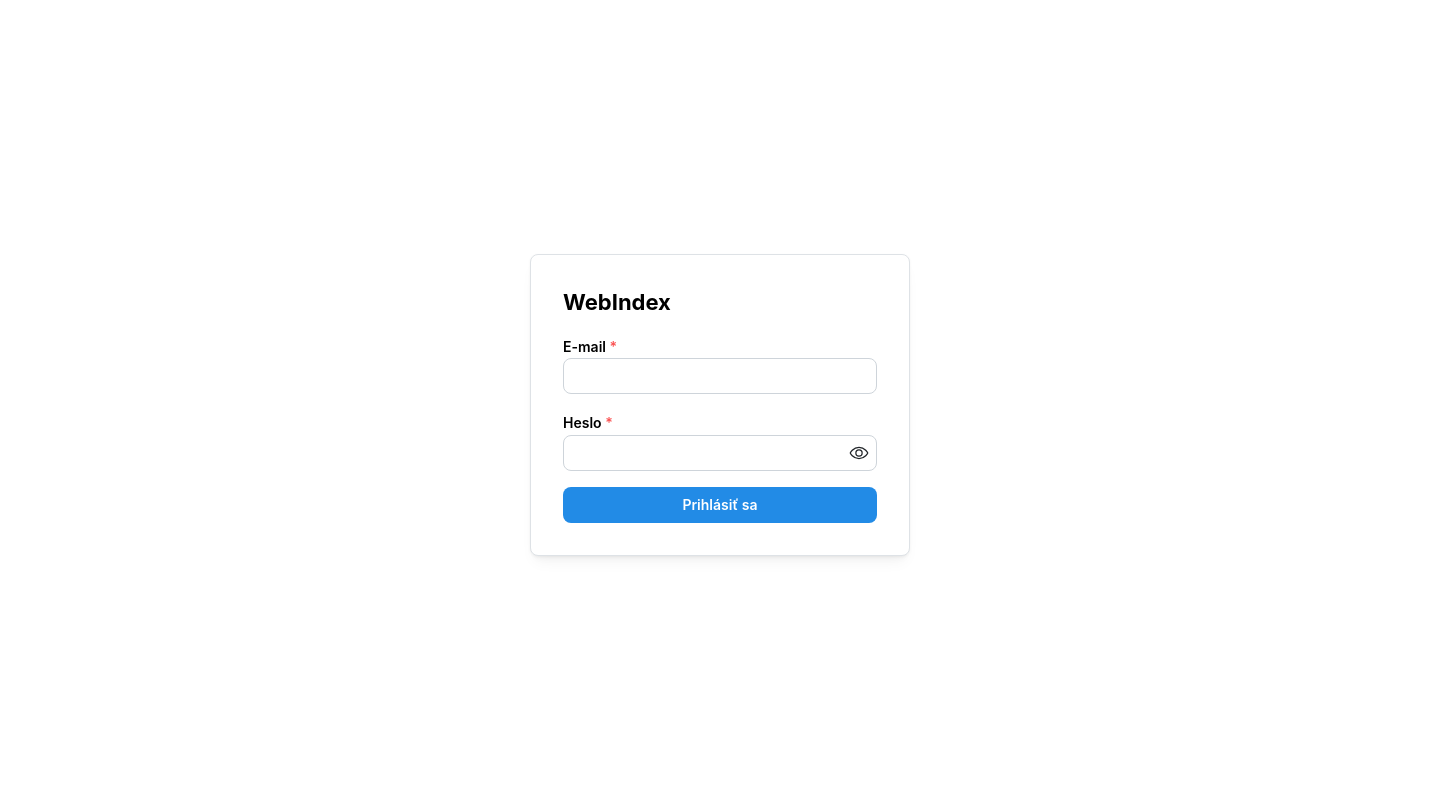
Scenario: deep links › keeps the query string of the requested page through the login
Type "admin@example.com" into the field labelled "E-mail *" at (720, 376), box [563,358,877,394]
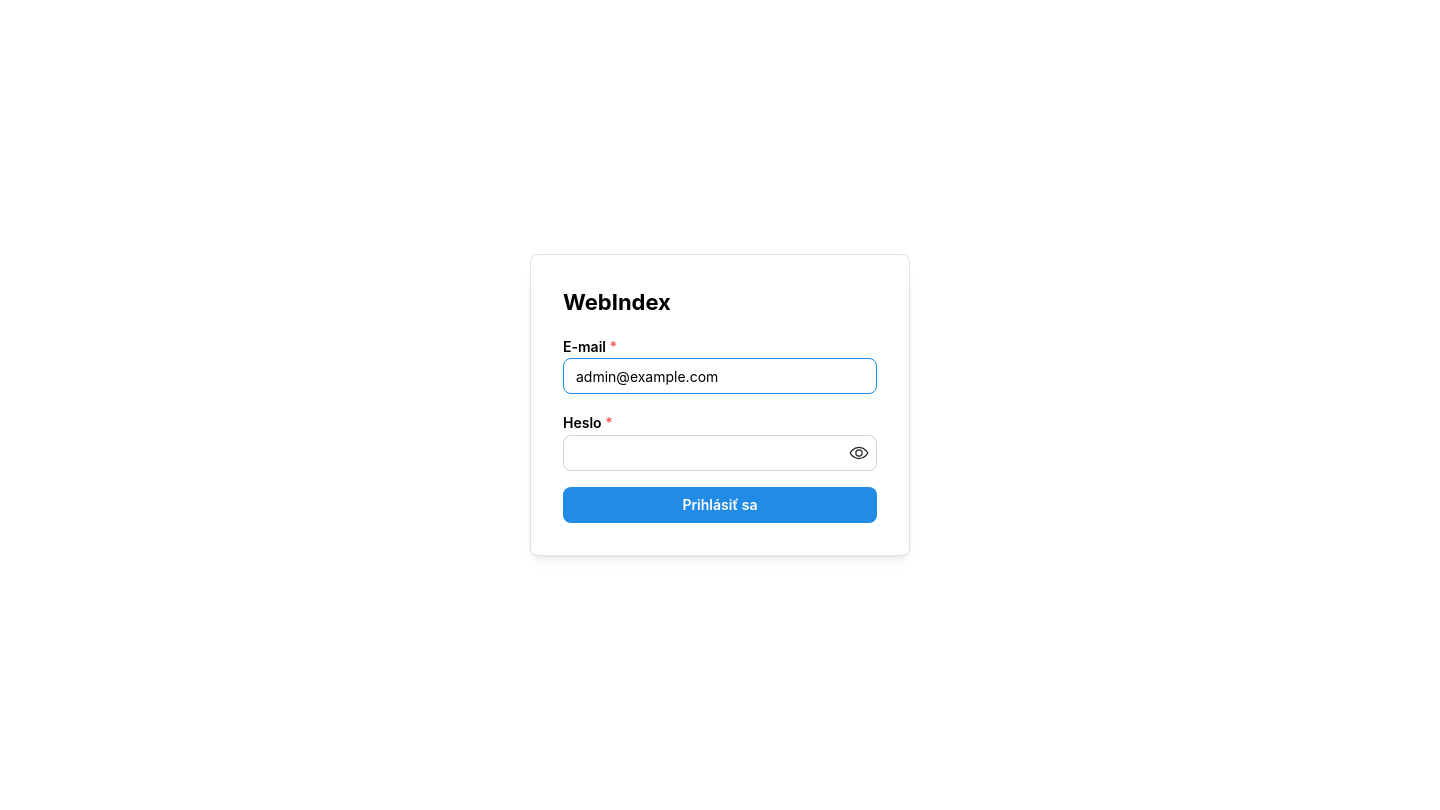
Type "spravne-heslo-123" into the password field labelled "Heslo *" at (720, 453), box [564,436,876,470]
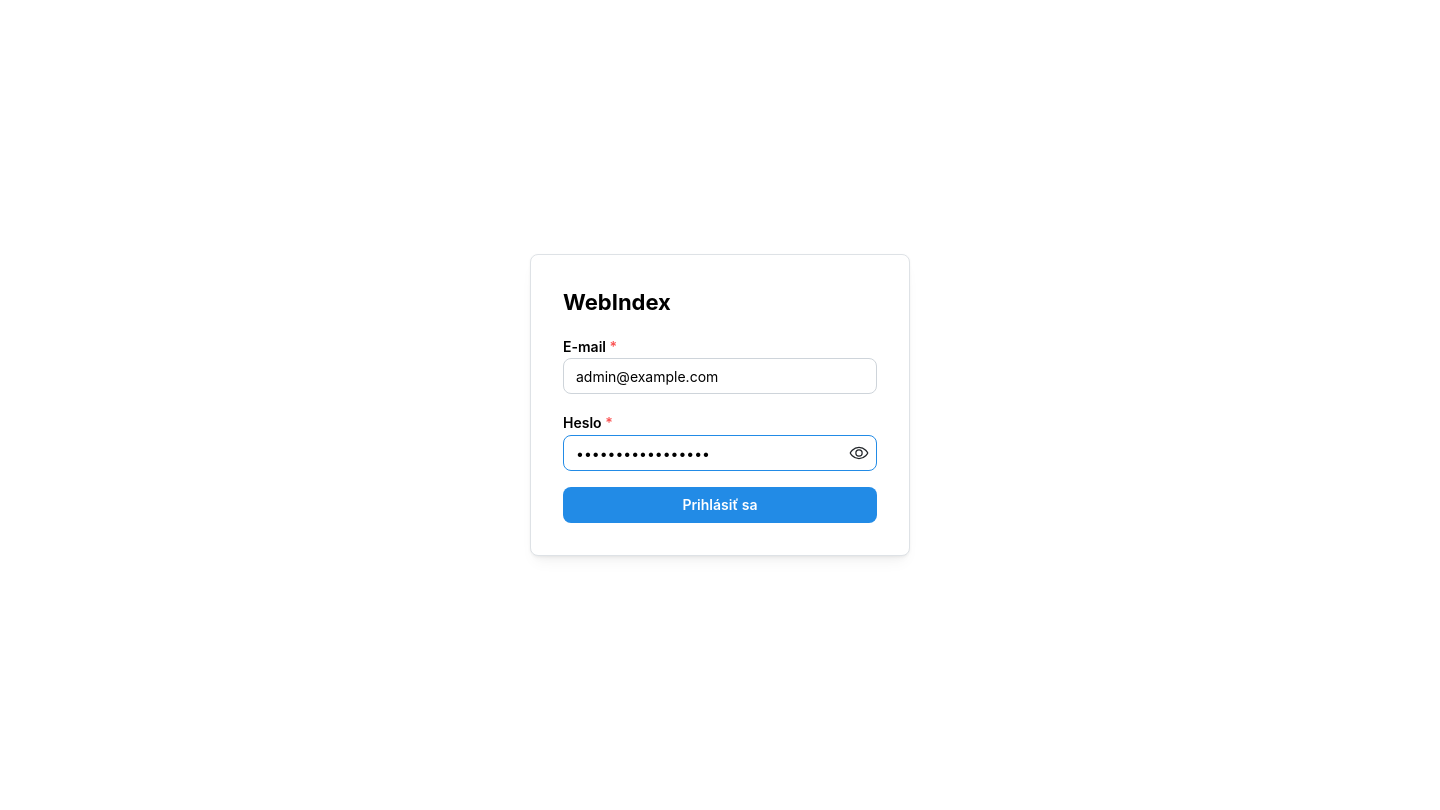
Click the button "Prihlásiť sa" at (720, 505), box [563,487,877,523]
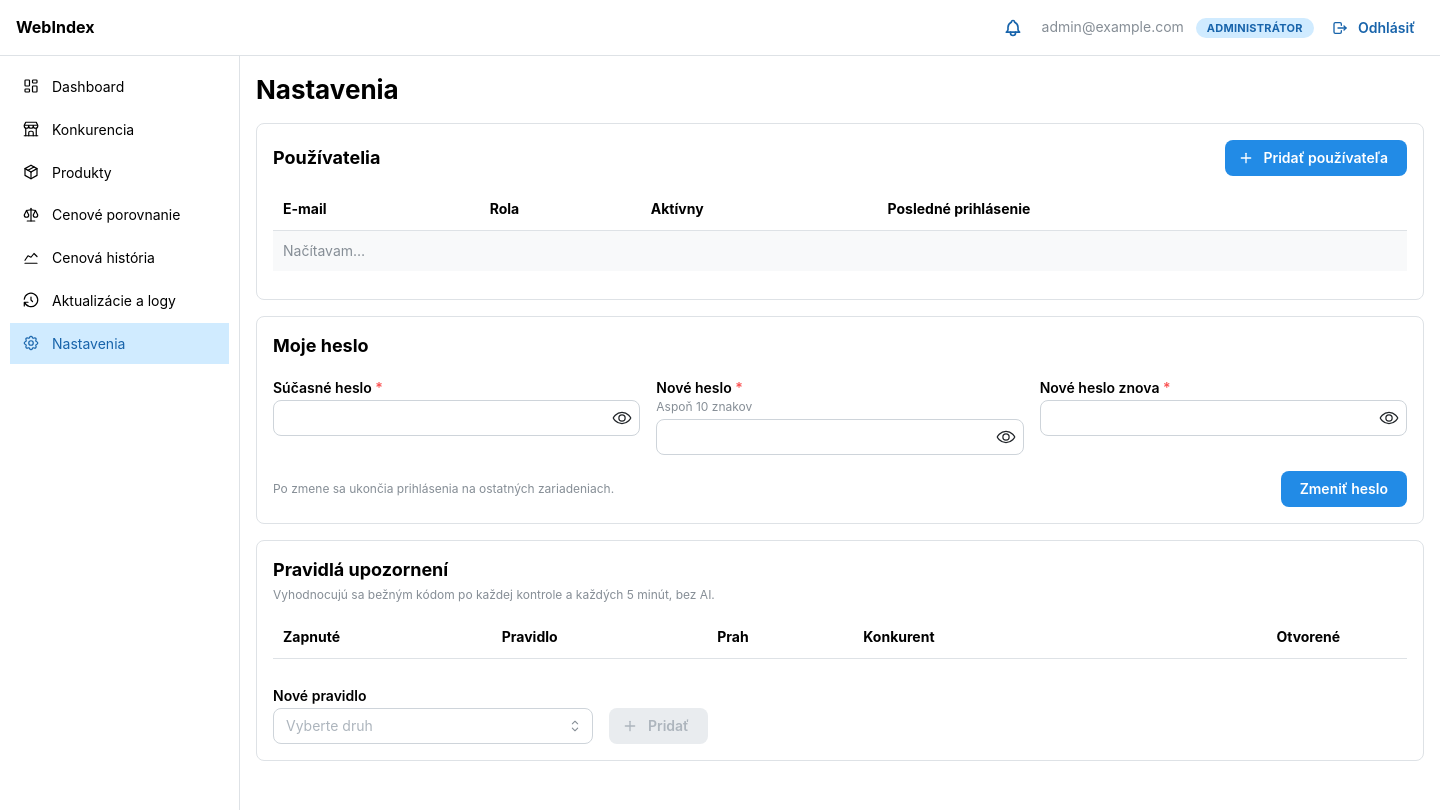
Expected: the heading "Nastavenia" is shown, [256,74,399,105]
